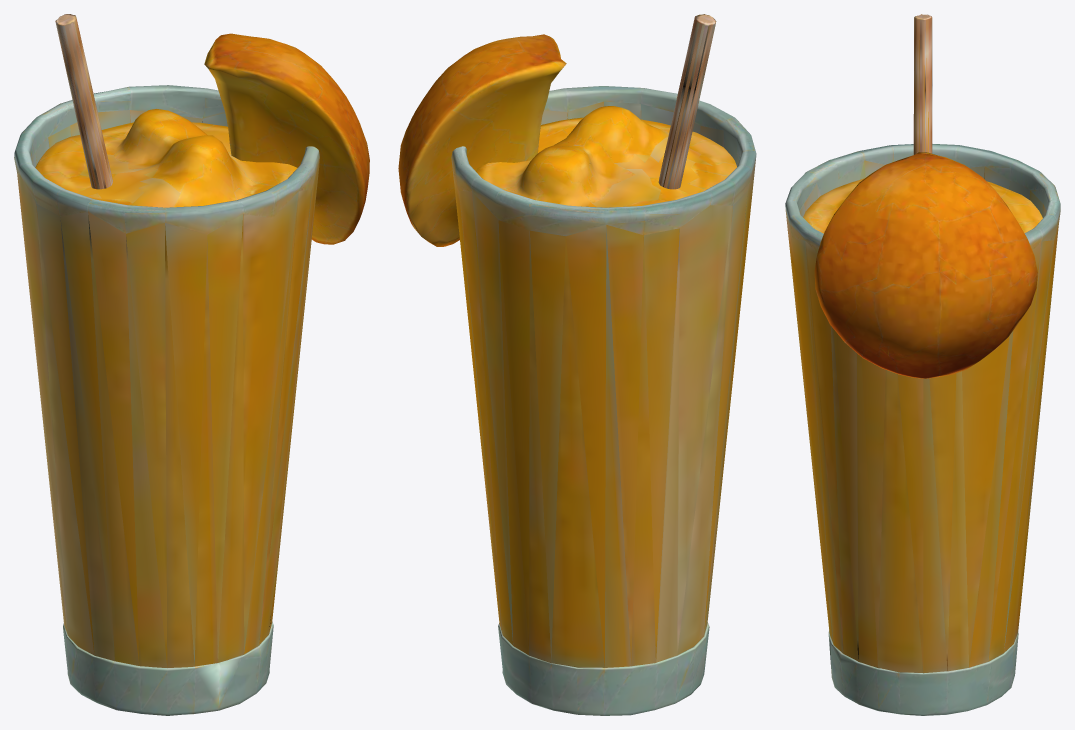
File: mango-shake.glb
3 views of the same model, side by side, from view 1: azimuth 30°, elevation 25°; view 2: azimuth 150°, elevation 25°; view 3: azimuth 270°, elevation 25° (orthographic). The views are drawn at different scales.
Parts seen in each view (by area): view 1: geometry_0; view 2: geometry_0; view 3: geometry_0.
Part boxes in pixels (x1,y1,x2,y2): geometry_0: (14,14,369,715); geometry_0: (398,14,756,715); geometry_0: (785,14,1060,715).
Bounding box in the file's own units: 0.4897 × 1 × 0.4048.
1 material, 1 textured.
